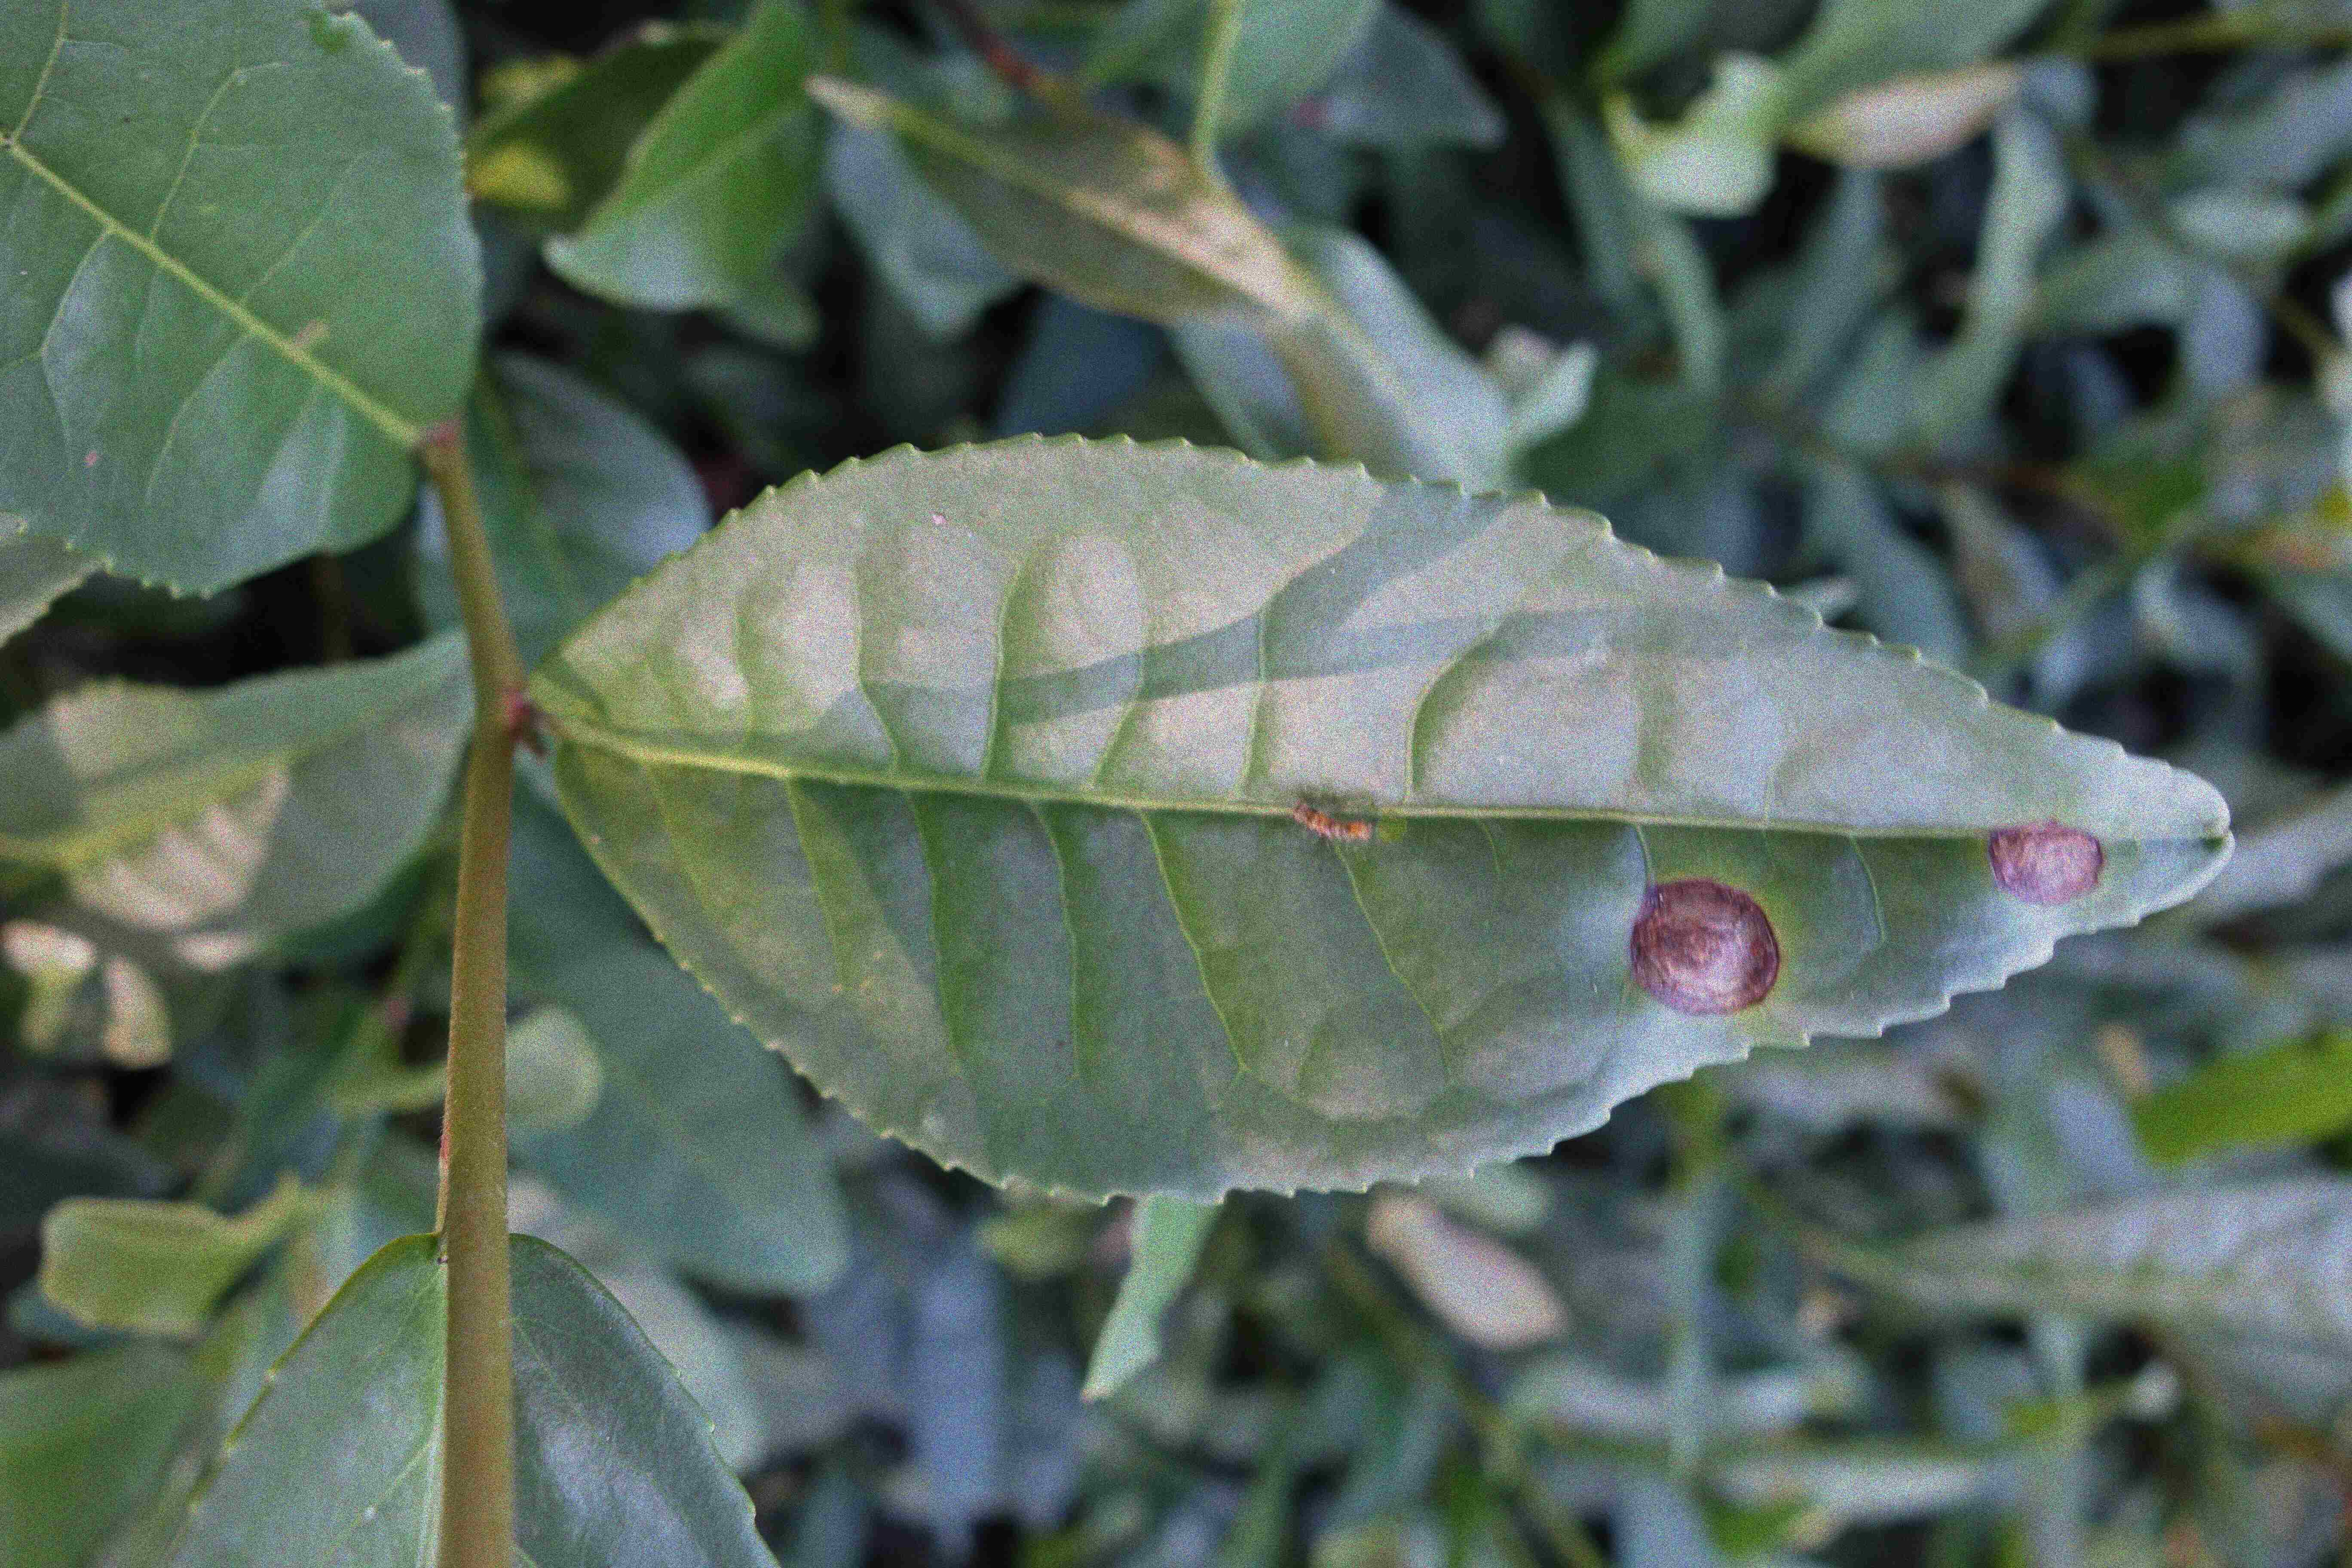tanju_high: (528, 430, 2245, 1206)
